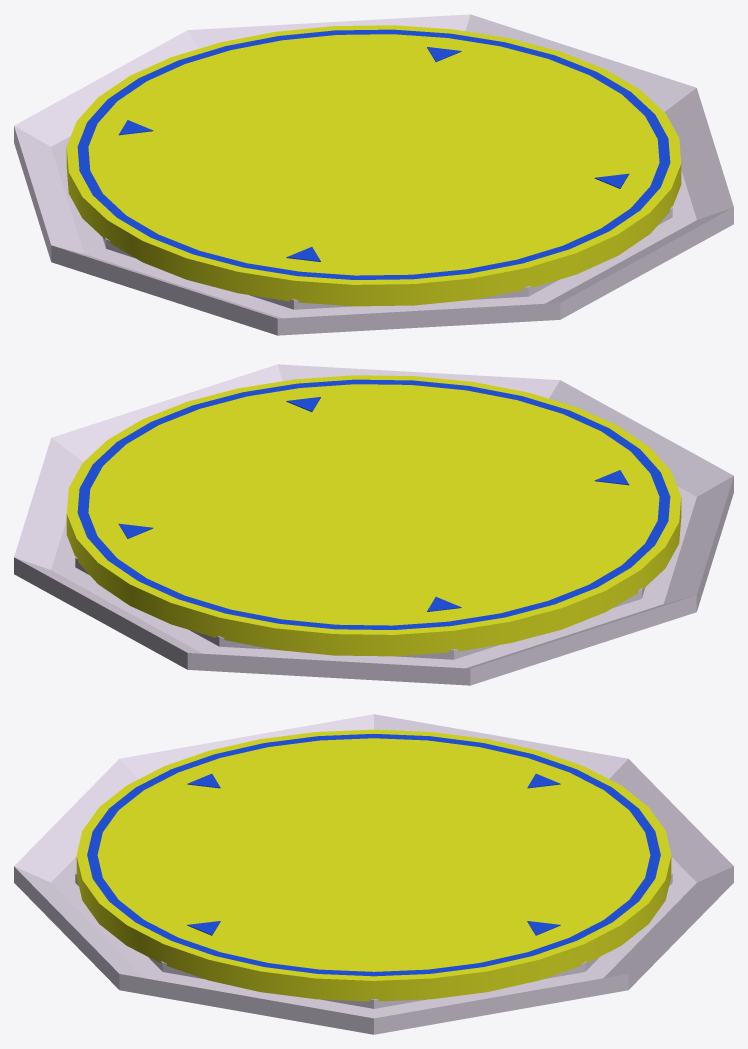
Rendered from bouncepad (1).fbx.
3 renders of one model, top to bottom at view 1: azimuth 30°, elevation 25°; view 2: azimuth 150°, elevation 25°; view 3: azimuth 270°, elevation 25°, orthographic. The views are drawn at different scales.
Visible parts, largest first — view 1: pad, base, circle; view 2: pad, base, circle; view 3: pad, base, circle.
Boxes of the visible parts, x1,y1,x2,y2 form: pad: (66,25,681,306); base: (14,14,733,335); circle: (77,29,670,279); pad: (66,375,681,656); base: (14,364,733,685); circle: (77,379,670,629); pad: (76,729,671,1001); base: (14,714,733,1034); circle: (87,734,660,976).
Bounding box in the file's own units: 241 × 14.44 × 241.
